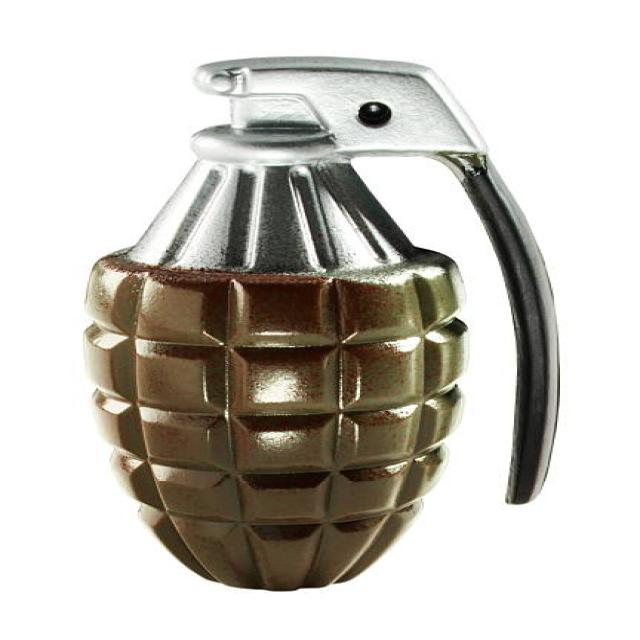grenade: (69, 51, 585, 598)
